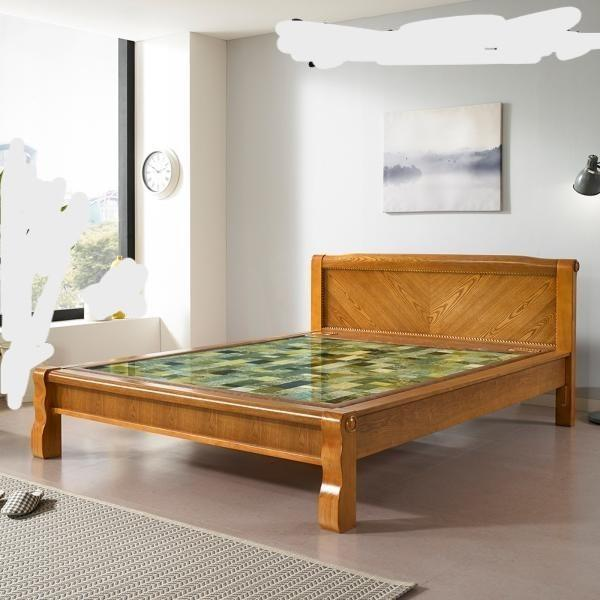Bed-Mattress: (29, 240, 588, 527)
